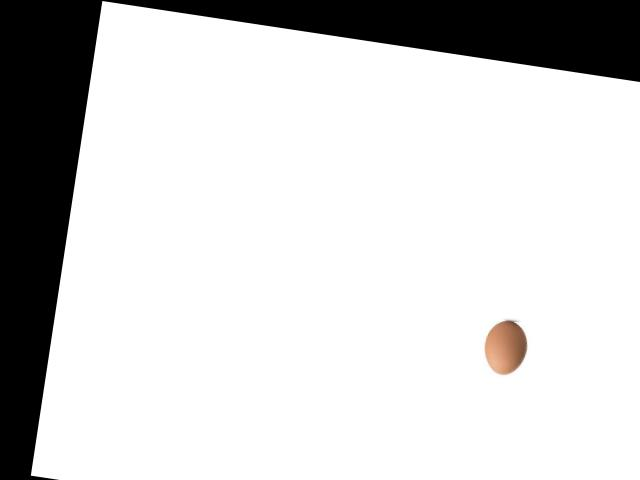egg: (482, 317, 530, 377)
